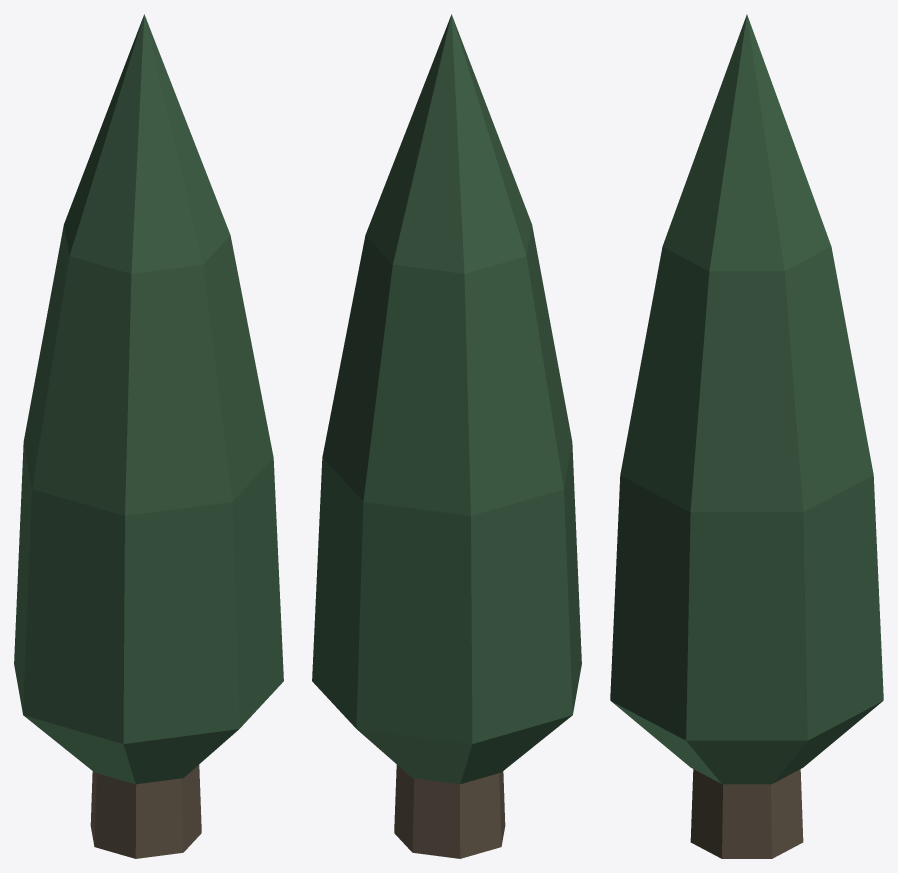
The model's file is Royal_Cypress.fbx.
3 views of the same model, side by side, from view 1: azimuth 30°, elevation 25°; view 2: azimuth 150°, elevation 25°; view 3: azimuth 270°, elevation 25° (orthographic).
Parts seen in each view (by area): view 1: Royal_Cypress; view 2: Royal_Cypress; view 3: Royal_Cypress.
Part boxes in pixels (box(x1,y1,x2,y2)): Royal_Cypress: box(14, 14, 283, 858); Royal_Cypress: box(312, 14, 581, 858); Royal_Cypress: box(610, 14, 883, 858).
Bounding box in the file's own units: 1.29 × 4.4 × 1.33.
